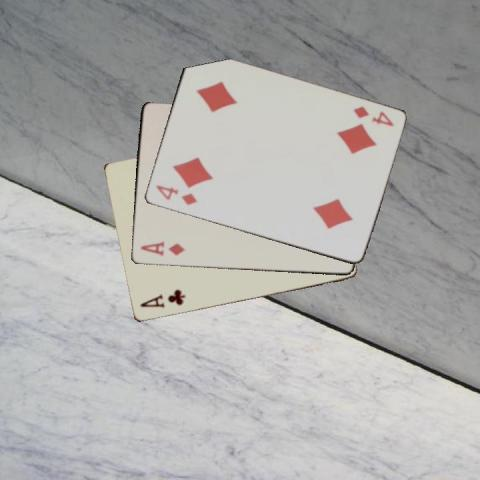4d: (349, 103, 396, 128), (152, 182, 198, 207)
Ac: (137, 287, 186, 310)
Ad: (138, 239, 186, 257)
